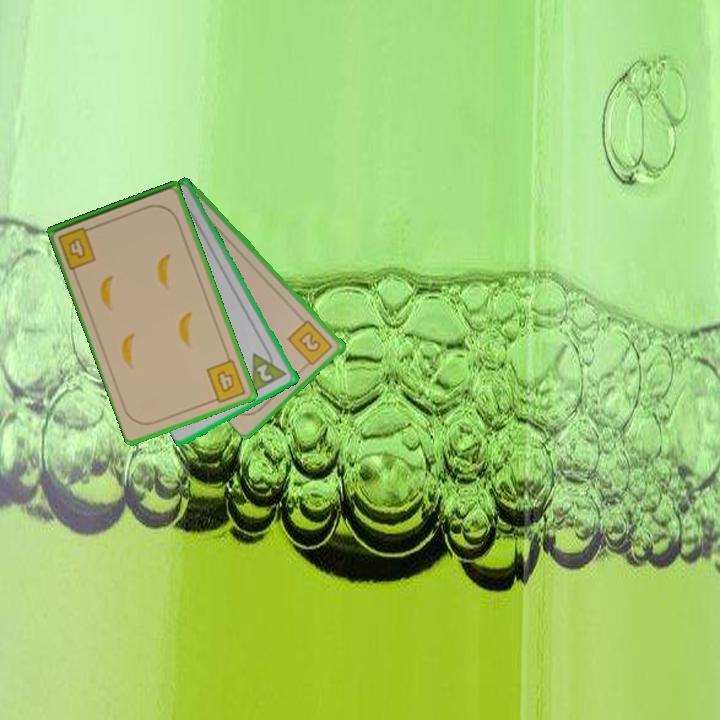2b: (284, 316, 336, 371)
2p: (248, 343, 291, 395)
4b: (203, 356, 249, 406), (54, 223, 99, 272)
